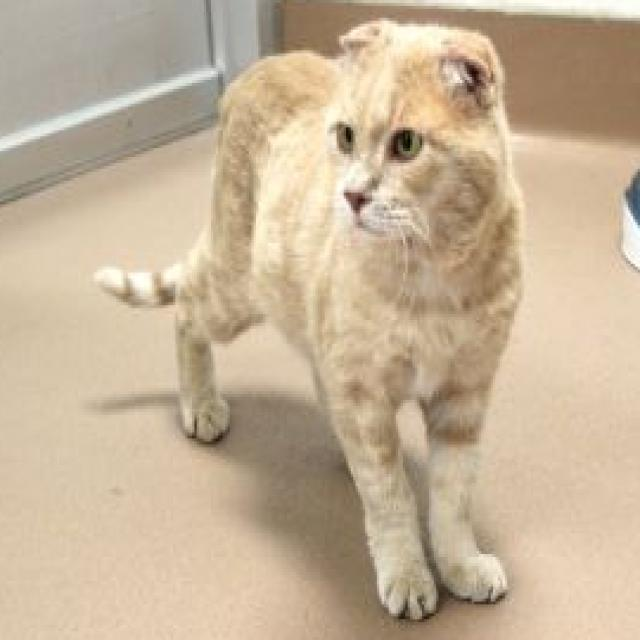Scottish Fold: (96, 15, 529, 628)
